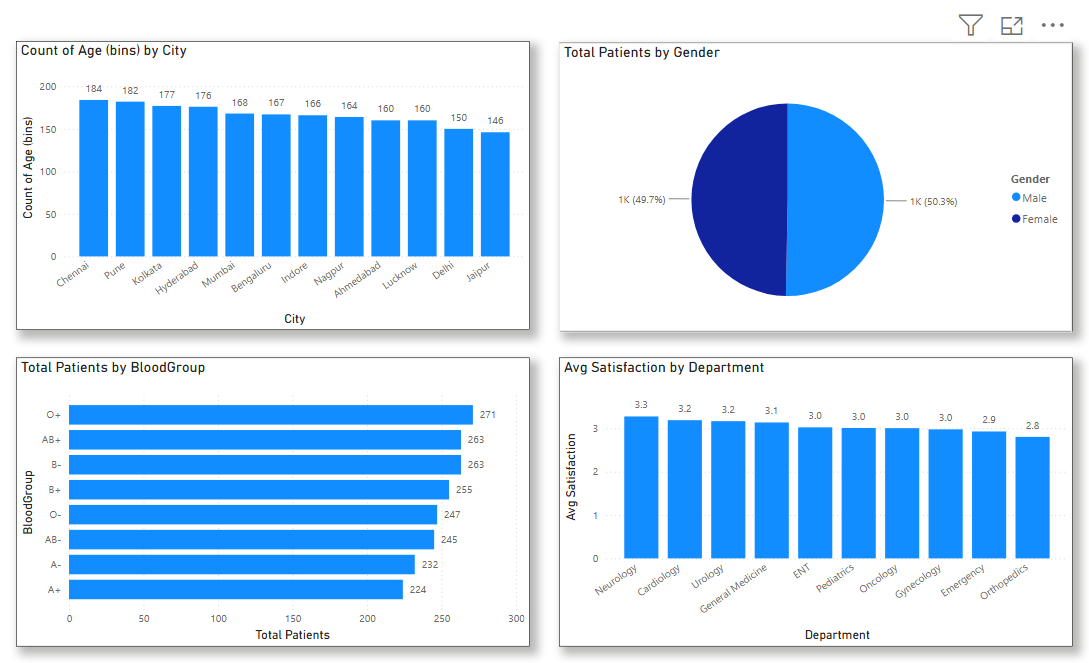

The page's visual inventory and layout, read from the dashboard file:
{"tool":"powerbi","page":{"name":"Demographics","canvas":[1280,780],"ordinal":2},"visuals":[{"type":"columnChart","fields":{"Y":["CountNonNull(healthcare_dataset (1).Age (bins))"],"Category":["healthcare_dataset (1).City"]},"box":[20.8,49.1,600.9,338.3],"z":0},{"type":"pieChart","fields":{"Category":["healthcare_dataset (1).Gender"],"Y":["healthcare_dataset (1).Total Patients"]},"box":[655.8,51,600.9,338.3],"z":1000},{"type":"clusteredBarChart","fields":{"Category":["healthcare_dataset (1).BloodGroup"],"Y":["healthcare_dataset (1).Total Patients"]},"box":[20.8,419.5,600.9,338.3],"z":2000},{"type":"clusteredColumnChart","fields":{"Category":["healthcare_dataset (1).Department"],"Y":["healthcare_dataset (1).Avg Satisfaction"]},"box":[655.8,419.5,600.9,338.3],"z":3000}]}

Visuals, with their boxes in screenshot pixels (x1, y1, x2, y2), scaled from the page's 1280x780 canvas onto the 1089x663 screenshot:
columnChart - CountNonNull(healthcare_dataset (1).Age (bins)) x healthcare_dataset (1).City: 18, 42, 529, 329
pieChart - healthcare_dataset (1).Gender x healthcare_dataset (1).Total Patients: 558, 43, 1069, 331
clusteredBarChart - healthcare_dataset (1).BloodGroup x healthcare_dataset (1).Total Patients: 18, 357, 529, 644
clusteredColumnChart - healthcare_dataset (1).Department x healthcare_dataset (1).Avg Satisfaction: 558, 357, 1069, 644
